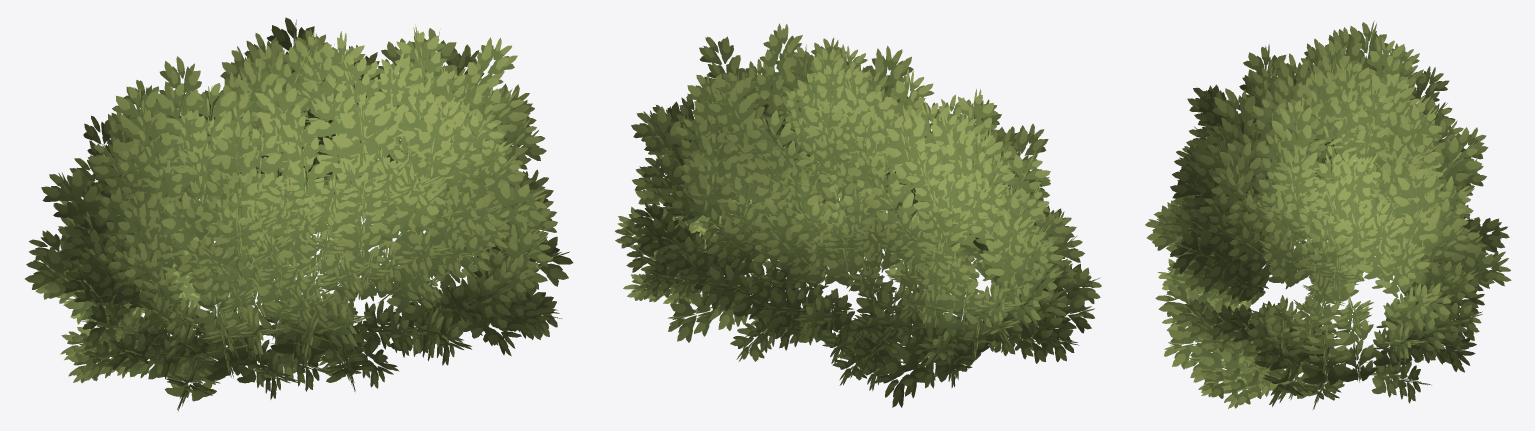
The model's file is fm_bush_low_spread.glb.
The picture shows the model from 3 angles, left to right: view 1: azimuth 30°, elevation 25°; view 2: azimuth 150°, elevation 25°; view 3: azimuth 270°, elevation 25°; orthographic projection. The views are drawn at different scales.
Visible parts, largest first — view 1: SM_Env_Bush_03_LOD1; view 2: SM_Env_Bush_03_LOD1; view 3: SM_Env_Bush_03_LOD1.
Boxes of the visible parts, x1,y1,x2,y2 form: SM_Env_Bush_03_LOD1: [25, 17, 573, 411]; SM_Env_Bush_03_LOD1: [615, 23, 1101, 407]; SM_Env_Bush_03_LOD1: [1145, 21, 1511, 409].
Size of the model in its own units: 1.88 by 1.1 by 1.37.
Materials: 1 (1 with a texture image).
